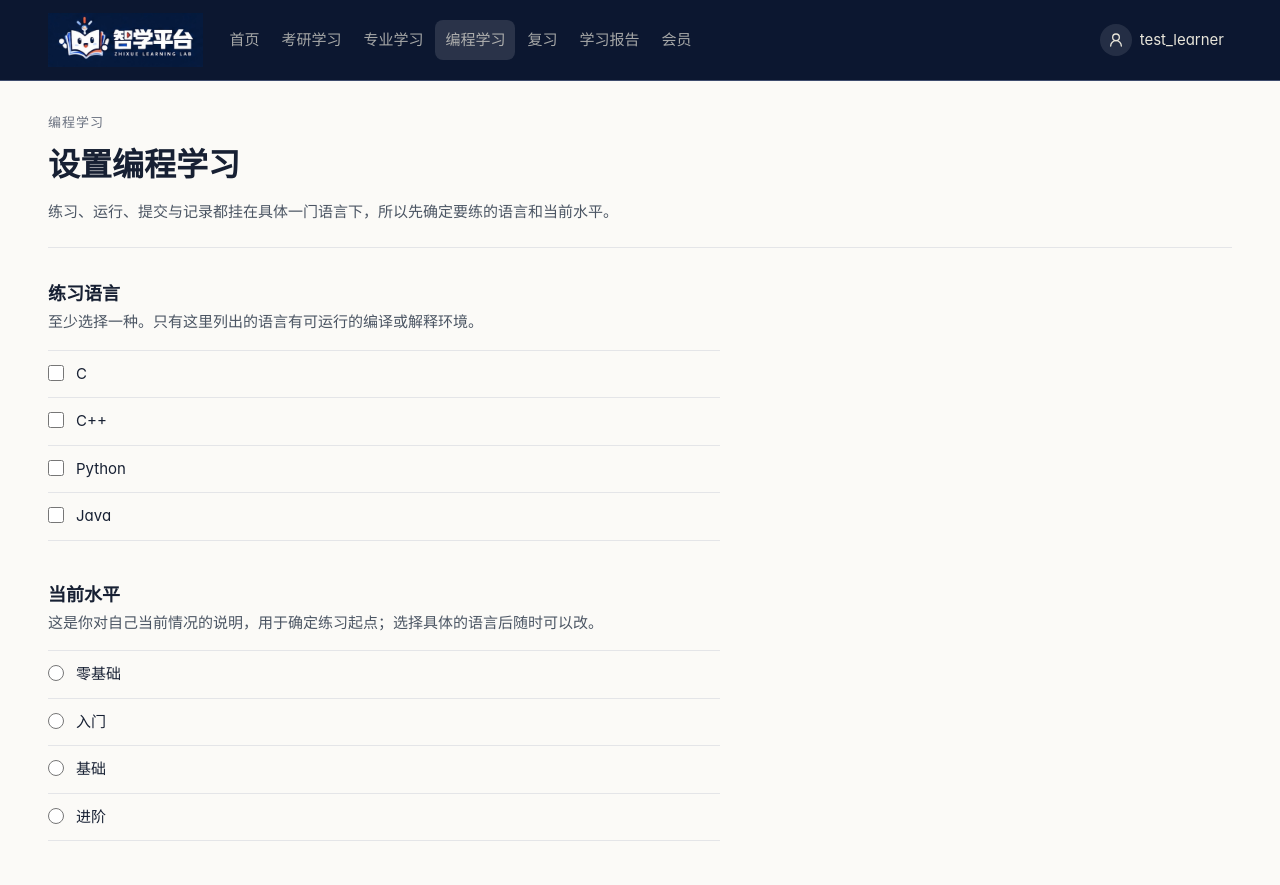
Test case: programming setup › surfaces the server’s refusal
Expected: the element "练习语言 至少选择一种。只有这里列出的语言有可运行的编译或解释环境。 C C++ Python Java" is shown, [48,280,720,540]
What coordinates should you click on to do the following:
click the checkbox labelled "Python"
I would click on:
 (56, 468)
Its box is [48,460,64,476].
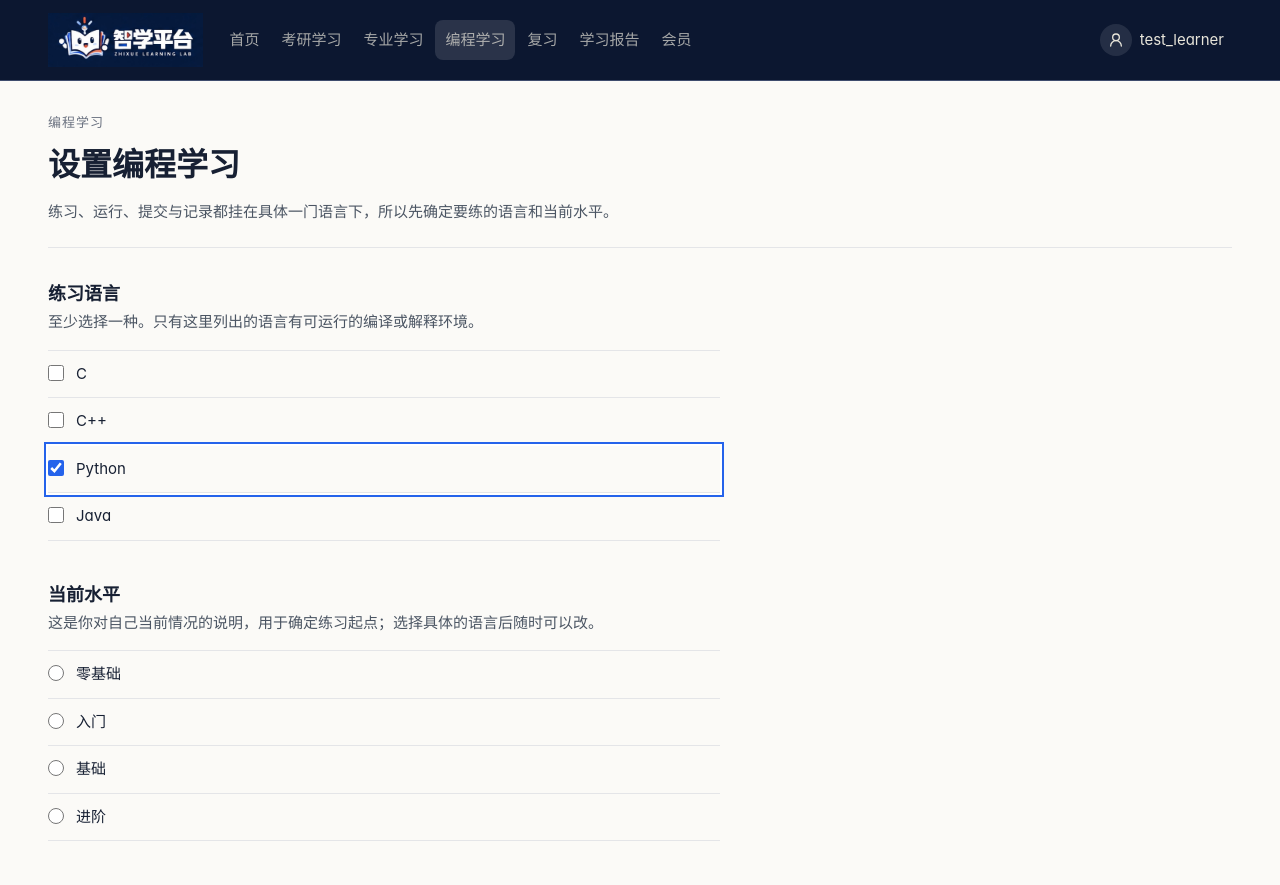
What coordinates should you click on to do the following:
click the radio button labelled "入门"
I would click on:
 (56, 720)
Its box is [48,712,64,728].
(page scrolled)
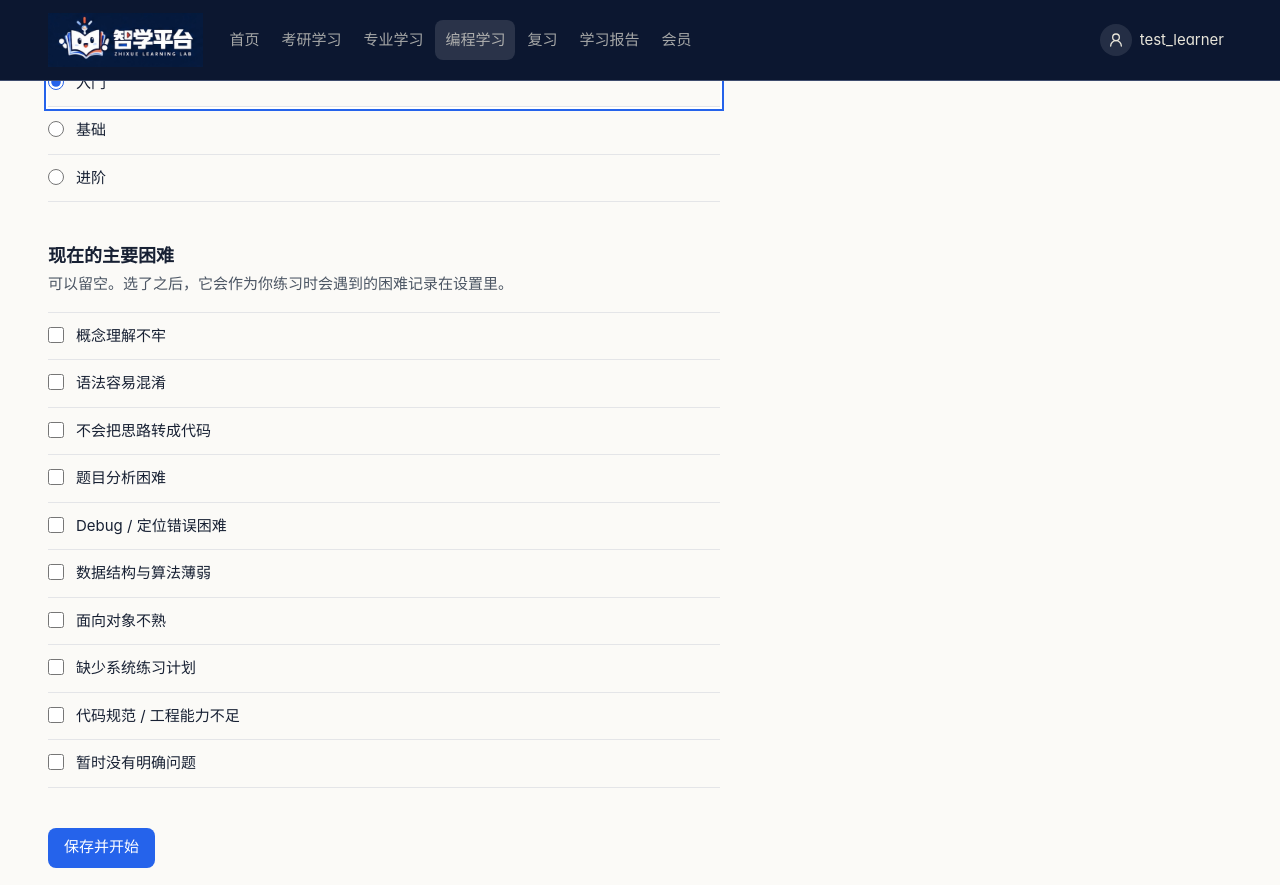
What coordinates should you click on to do the following:
click the button "保存并开始"
I would click on:
 (102, 848)
Its box is [48,828,155,868].
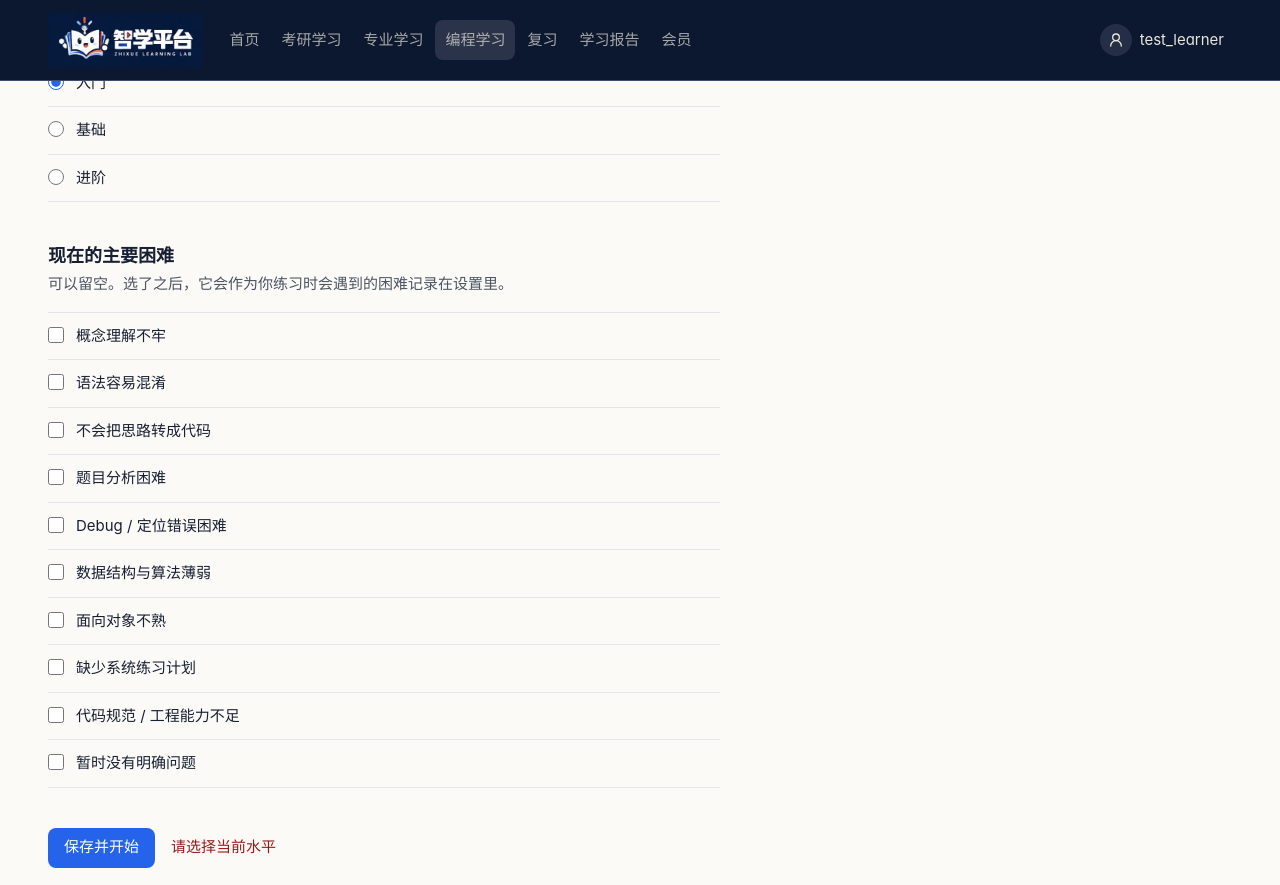
Now the text "请选择当前水平" is shown, box [171,836,276,859]
